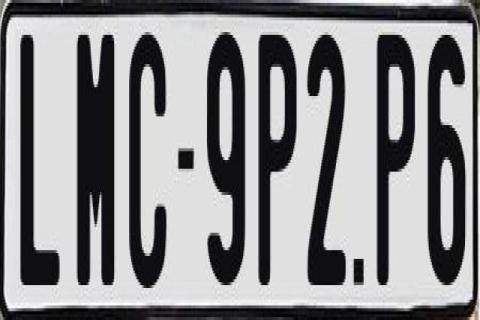0: (206, 32, 247, 291), (304, 29, 344, 279), (424, 35, 462, 285)
C: (128, 29, 171, 294)
L: (19, 32, 63, 300)
M: (74, 32, 118, 285)
P: (376, 32, 420, 291), (255, 29, 294, 279)
